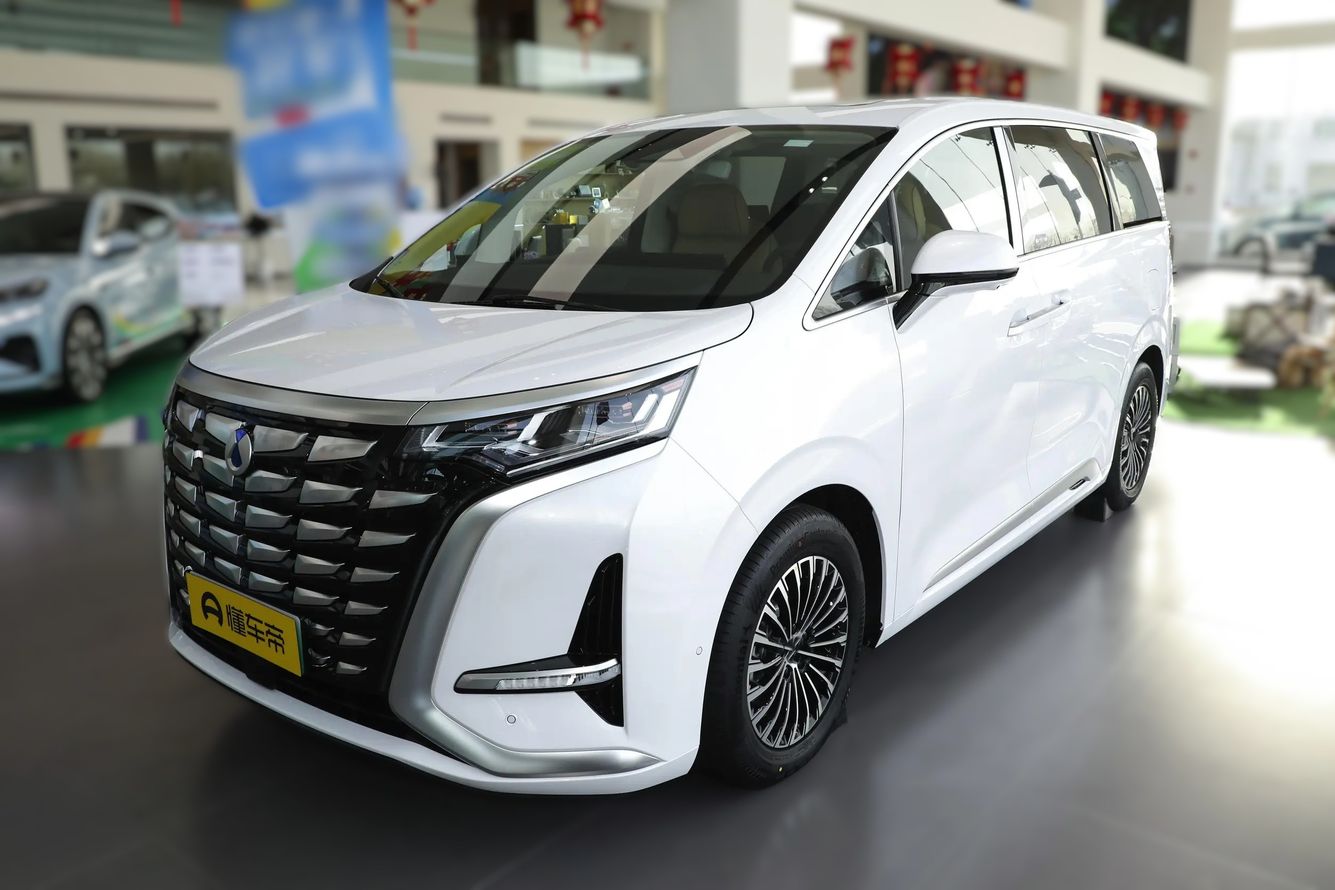DENZA: (225, 429, 251, 475)
